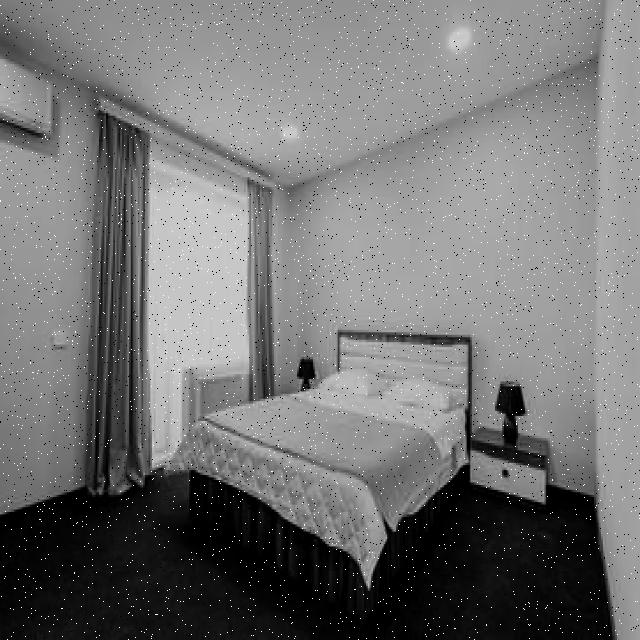bed: (190, 328, 478, 536)
